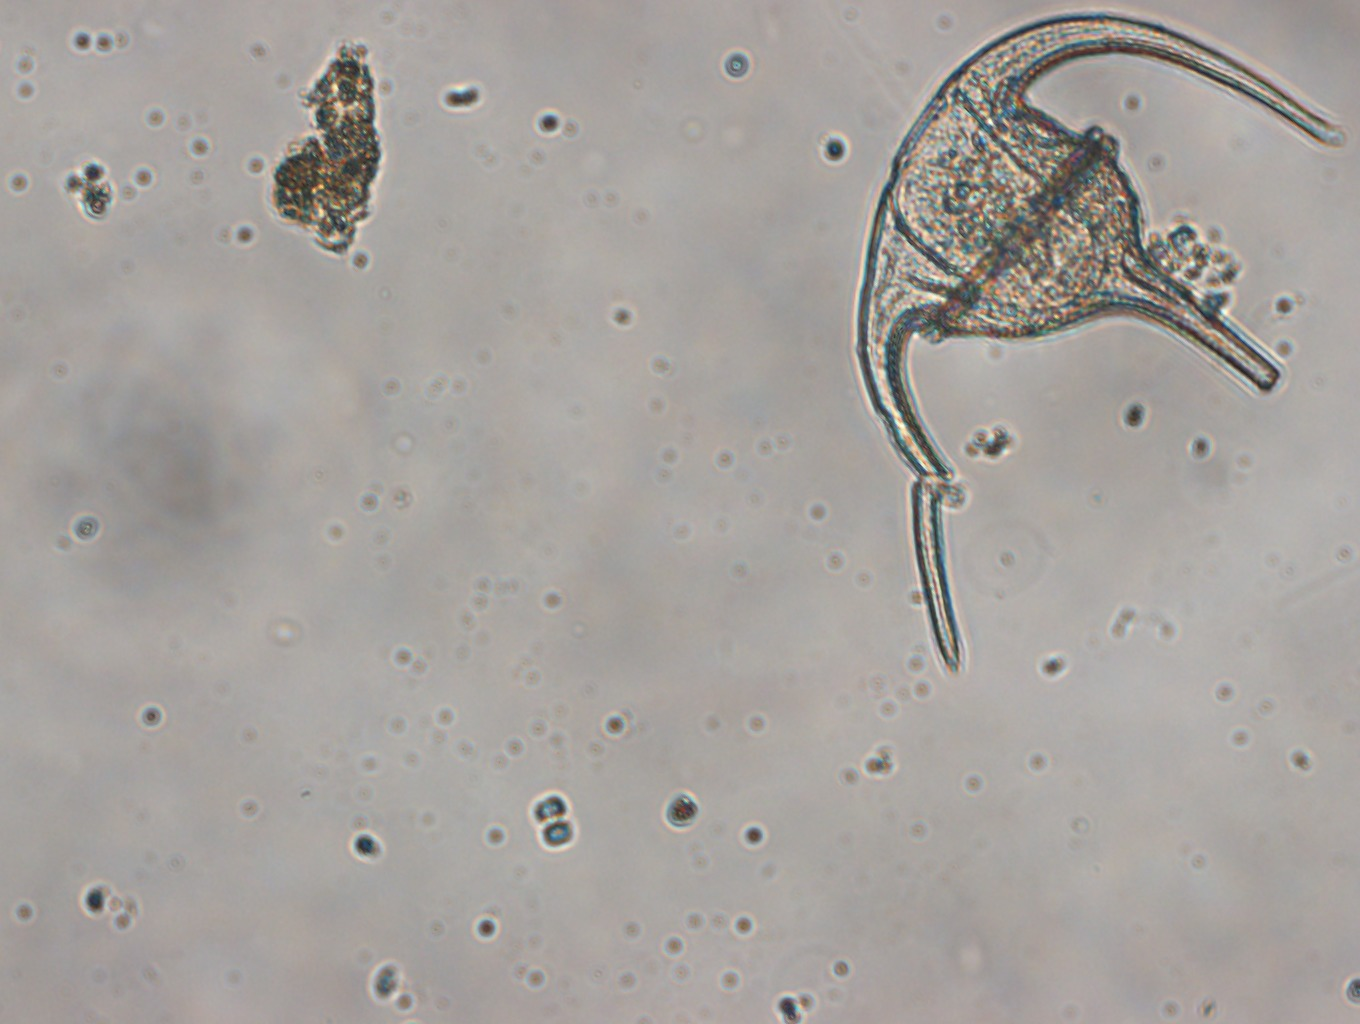ceratium tripos: (850, 9, 1350, 675)
